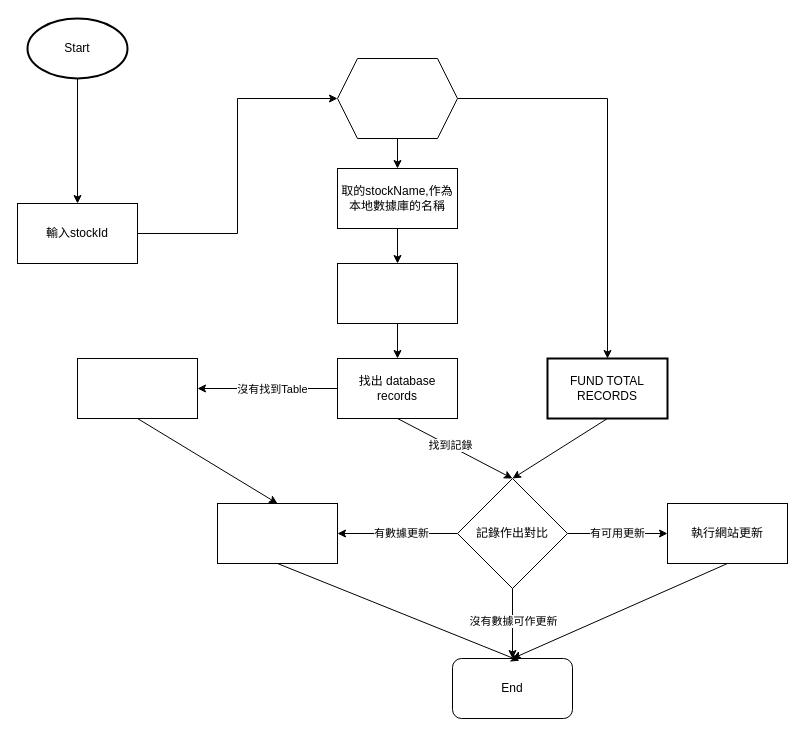
This 805x736 diagram has some shape labels left out. Each missing label, with the box of its shape:
Goto hkexnews download records: (336, 58, 458, 138)
將更新寫入數據庫: (216, 502, 338, 564)
新增table: (76, 358, 198, 418)
連接Local Data base: (336, 262, 458, 324)
